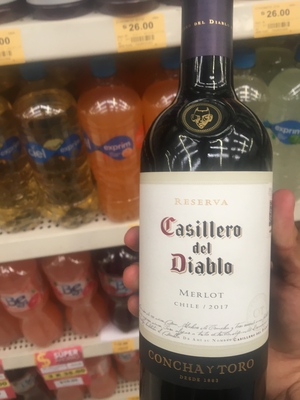casillero del diablo merlot: (131, 20, 274, 396)
